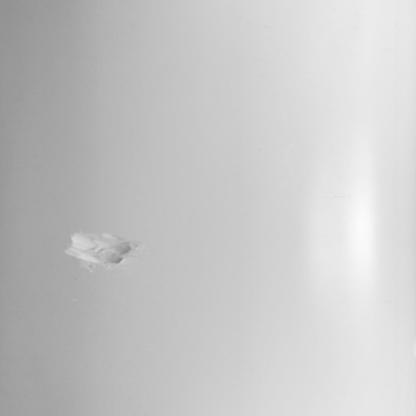sunshang: (63, 228, 134, 269)
